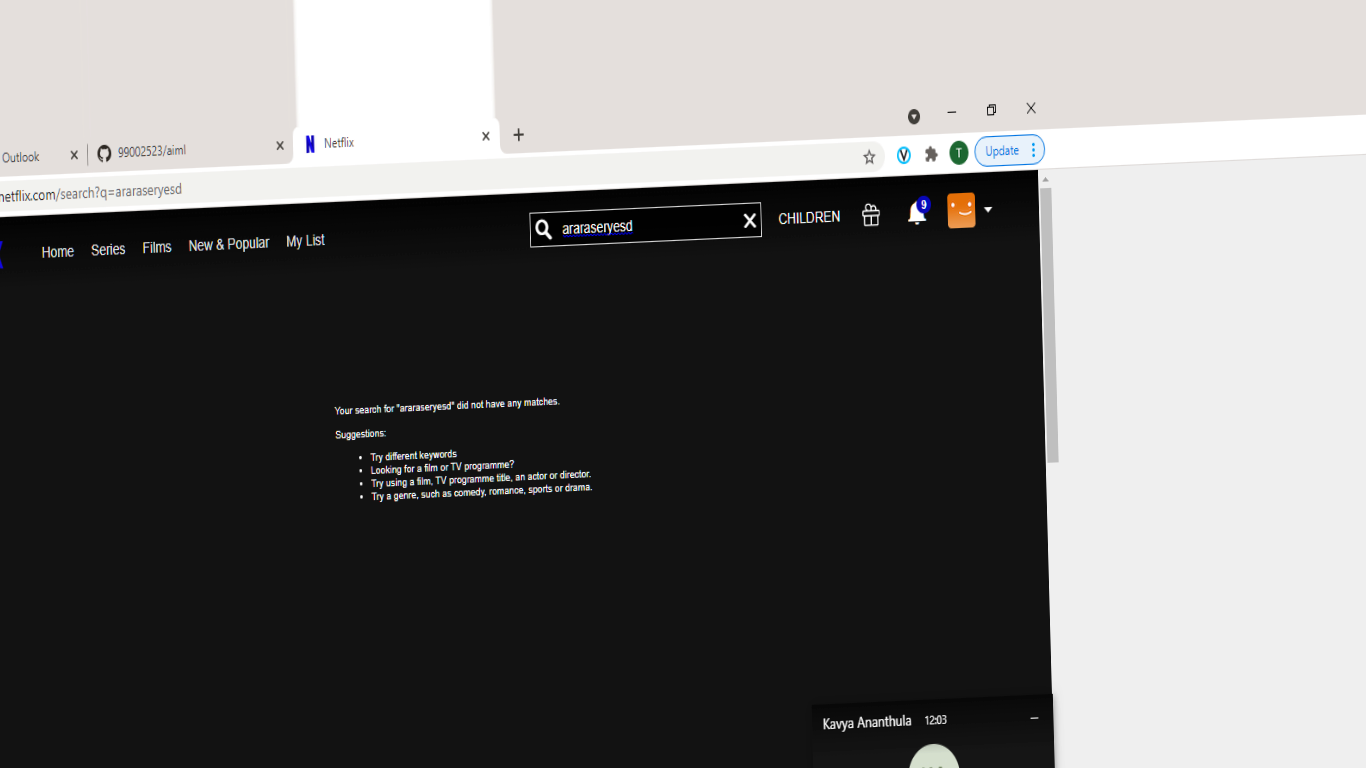mywatchlistbutton: (277, 223, 340, 259)
noresultsfound: (306, 389, 615, 515)
profileicon: (937, 186, 991, 231)
searchicon: (530, 212, 554, 245)
searchtextbox: (521, 205, 769, 249)
